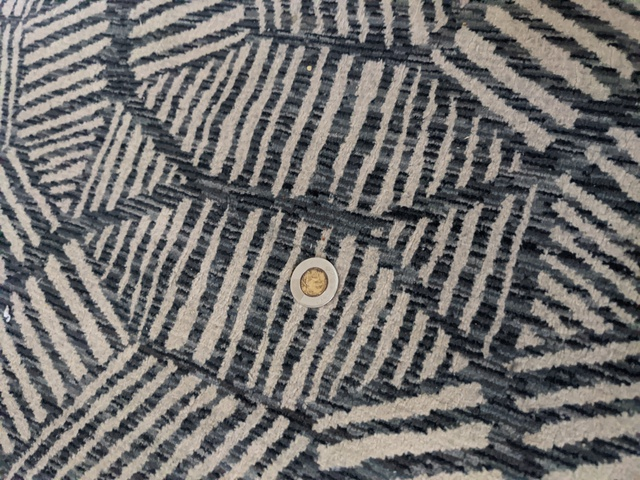twonie: (286, 255, 347, 312)
